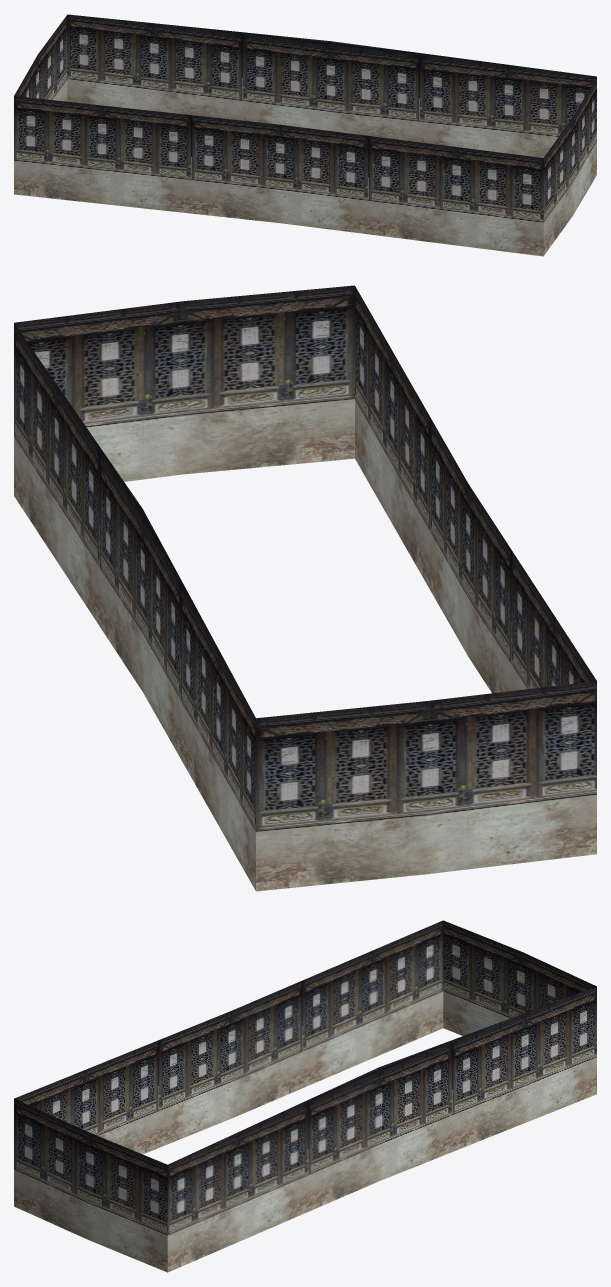
Rendered from ian0001.obj.
3 renders of one model, top to bottom at view 1: azimuth 30°, elevation 25°; view 2: azimuth 150°, elevation 25°; view 3: azimuth 270°, elevation 25°, orthographic. The views are drawn at different scales.
Parts seen in each view (by area): view 1: ian0001; view 2: ian0001; view 3: ian0001.
Part boxes in pixels (x1=…): ian0001: x1=14, y1=14, x2=596, y2=256; ian0001: x1=14, y1=285, x2=596, y2=891; ian0001: x1=14, y1=920, x2=596, y2=1272.
Bounding box in the file's own units: 200 × 43.77 × 202.
